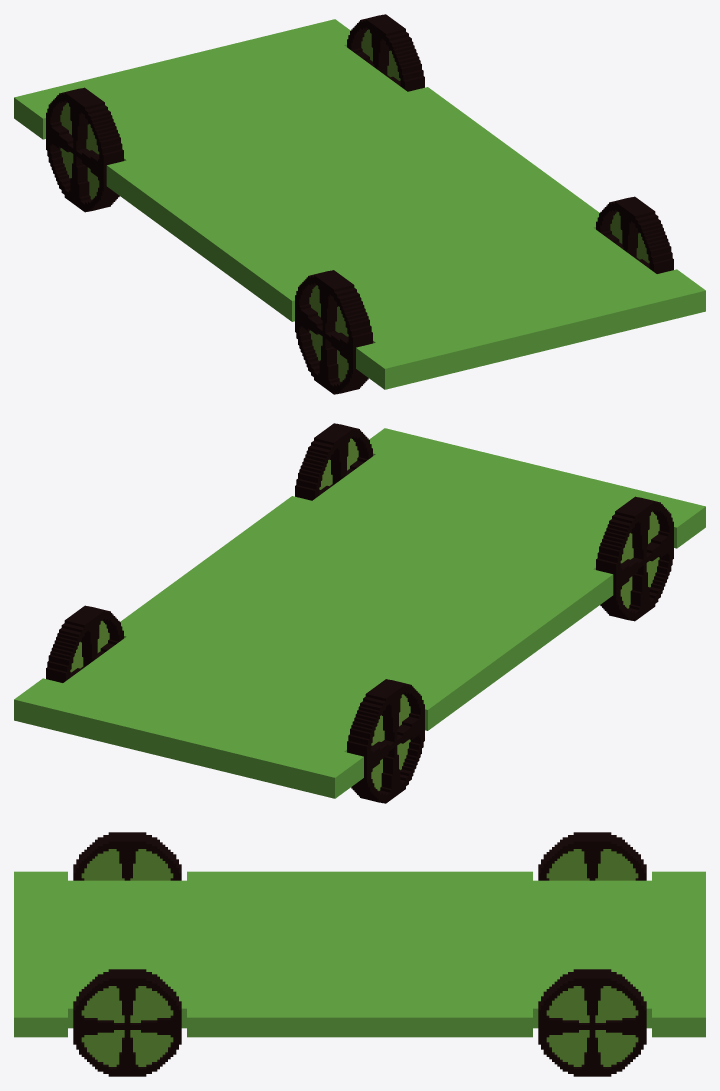
The model's file is oliver.glb.
The picture shows the model from 3 angles, top to bottom: view 1: azimuth 30°, elevation 25°; view 2: azimuth 150°, elevation 25°; view 3: azimuth 270°, elevation 25°; orthographic projection. The views are drawn at different scales.
Parts seen in each view (by area): view 1: platform-Local, front-right-Local, front-left-Local, back-left-Local, back-right-Local; view 2: platform-Local, front-left-Local, front-right-Local, back-right-Local, back-left-Local; view 3: platform-Local, back-left-Local, back-right-Local, front-left-Local, front-right-Local.
Boxes of the visible parts, left/top/right/bottom form: platform-Local: left=14, top=19, right=705, bottom=389; front-right-Local: left=46, top=87, right=123, bottom=212; front-left-Local: left=295, top=270, right=372, bottom=394; back-left-Local: left=596, top=196, right=673, bottom=273; back-right-Local: left=347, top=14, right=424, bottom=91; platform-Local: left=14, top=428, right=705, bottom=798; front-left-Local: left=596, top=496, right=673, bottom=621; front-right-Local: left=347, top=679, right=424, bottom=803; back-right-Local: left=46, top=605, right=123, bottom=682; back-left-Local: left=295, top=423, right=372, bottom=500; platform-Local: left=14, top=871, right=705, bottom=1037; back-left-Local: left=73, top=969, right=181, bottom=1076; back-right-Local: left=538, top=969, right=646, bottom=1076; front-left-Local: left=73, top=832, right=181, bottom=880; front-right-Local: left=538, top=832, right=646, bottom=880.
Bounding box in the file's own units: 2.56 × 0.8 × 5.12.
5 materials, 5 textured.
